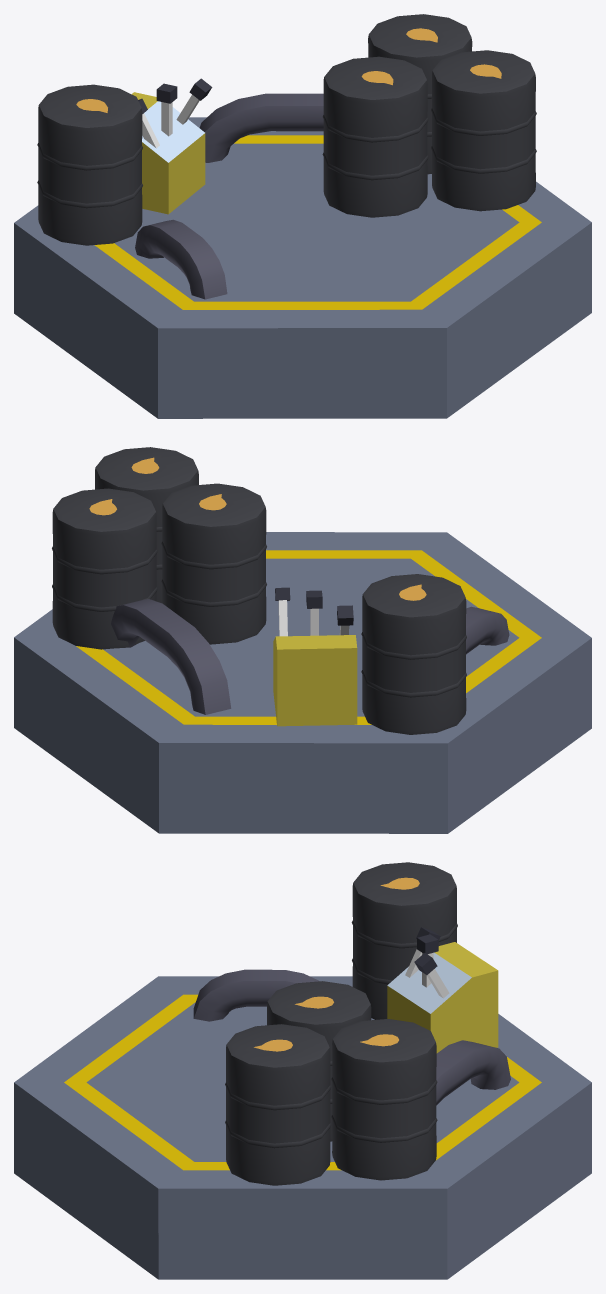
File: OilHex_03.fbx
3 renders of one model, top to bottom at view 1: azimuth 30°, elevation 25°; view 2: azimuth 150°, elevation 25°; view 3: azimuth 270°, elevation 25°, orthographic.
Parts seen in each view (by area): view 1: OilHex_03; view 2: OilHex_03; view 3: OilHex_03.
Boxes of the visible parts, bbox=[...] form: OilHex_03: bbox=[14, 14, 591, 418]; OilHex_03: bbox=[14, 447, 591, 833]; OilHex_03: bbox=[14, 862, 591, 1279].
Bounding box in the file's own units: 1 × 0.465 × 1.15.
